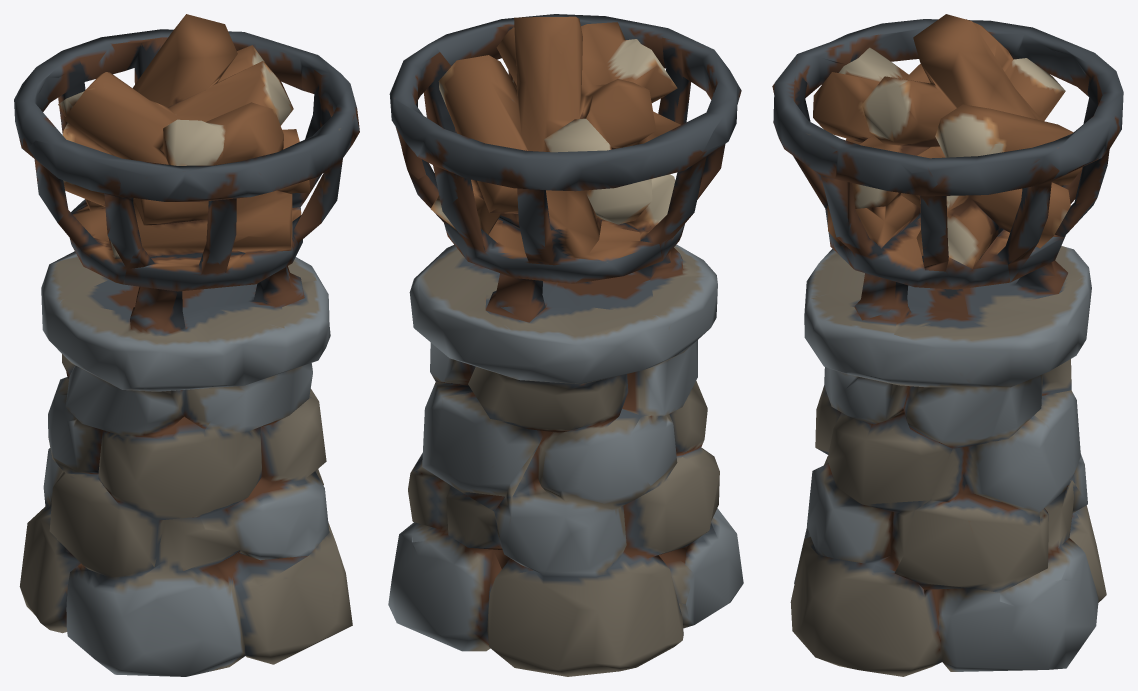
File: beacon.glb
The picture shows the model from 3 angles, left to right: view 1: azimuth 30°, elevation 25°; view 2: azimuth 150°, elevation 25°; view 3: azimuth 270°, elevation 25°; orthographic projection. The views are drawn at different scales.
Parts seen in each view (by area): view 1: tripo_node_5c09c477-68c4-4e2f-9916-48d1f5dddf3b; view 2: tripo_node_5c09c477-68c4-4e2f-9916-48d1f5dddf3b; view 3: tripo_node_5c09c477-68c4-4e2f-9916-48d1f5dddf3b.
Boxes of the visible parts, x1,y1,x2,y2 form: tripo_node_5c09c477-68c4-4e2f-9916-48d1f5dddf3b: [14, 14, 359, 676]; tripo_node_5c09c477-68c4-4e2f-9916-48d1f5dddf3b: [388, 14, 743, 676]; tripo_node_5c09c477-68c4-4e2f-9916-48d1f5dddf3b: [772, 14, 1123, 676].
Bounding box in the file's own units: 0.5368 × 1 × 0.5278.
Materials: 1 (1 with a texture image).
